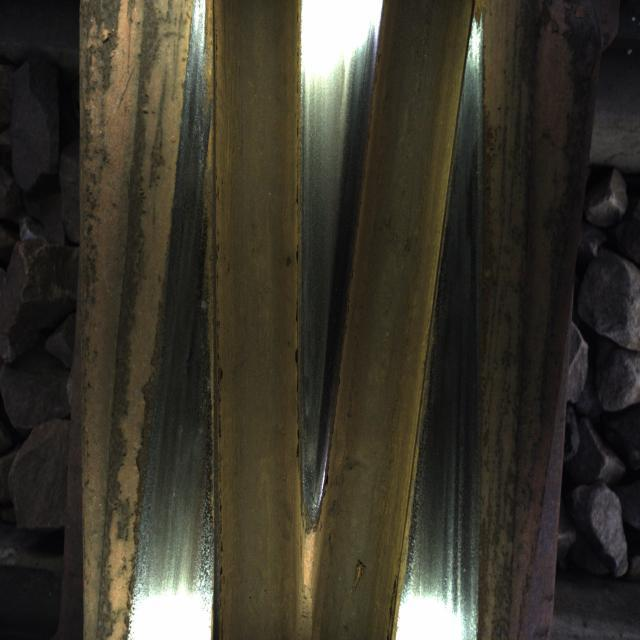break: (138, 296, 210, 640), (415, 255, 474, 640), (300, 0, 355, 380)
